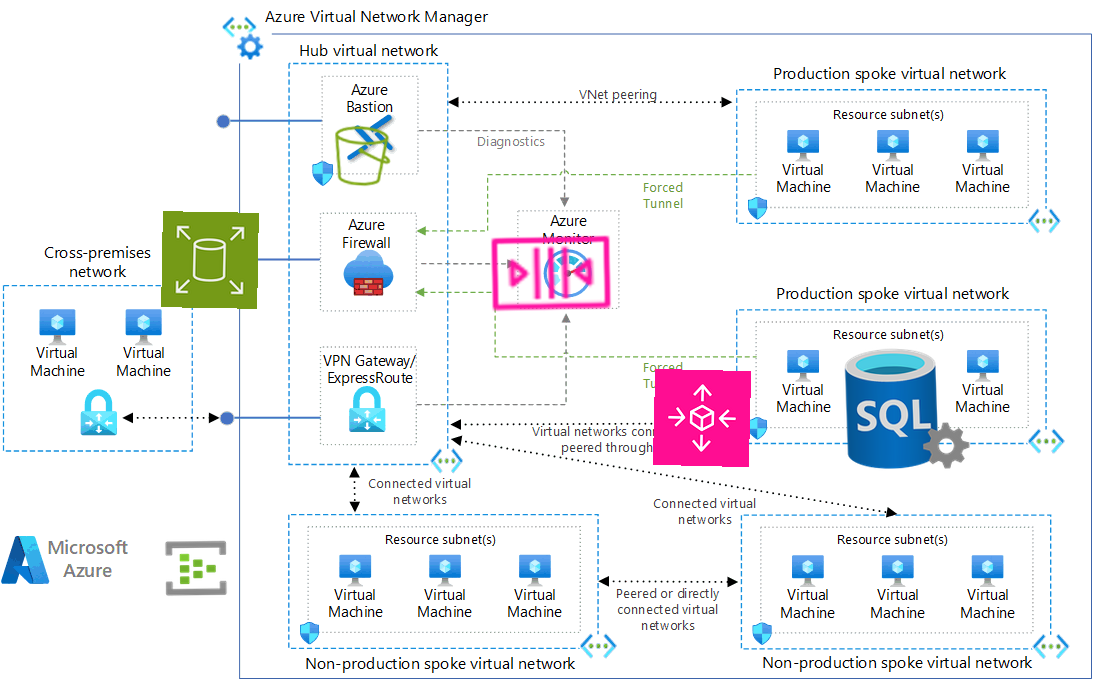aws_amazon_elastic_block_store: (161, 211, 259, 309)
aws_auto_scaling: (652, 368, 752, 468)
aws_simple_queue_service_queue: (485, 206, 617, 338)
aws_simple_storage_service_s3_standard: (327, 121, 397, 191)
azure_event_hubs: (163, 535, 229, 601)
azure_sql_server: (840, 342, 974, 476)
